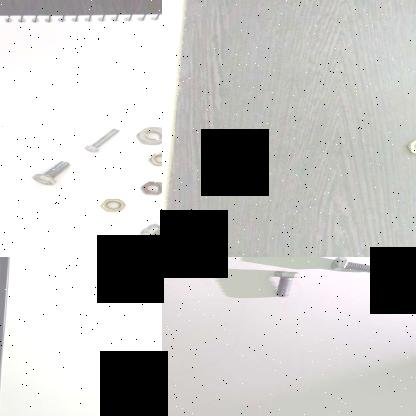Bolts: (78, 124, 122, 154), (29, 159, 71, 187), (324, 257, 381, 277), (263, 270, 303, 298), (136, 222, 162, 248), (186, 257, 224, 272)
NUTS: (92, 194, 128, 216), (130, 123, 162, 147), (133, 178, 162, 197), (141, 149, 162, 167), (401, 136, 416, 156)
